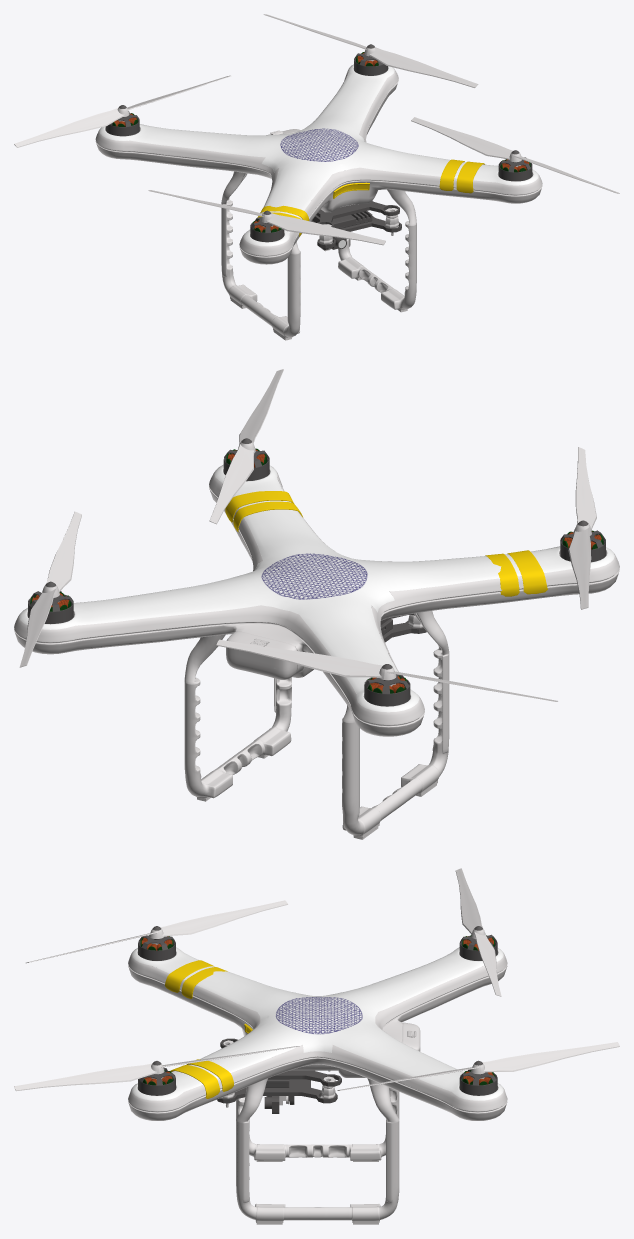
The picture shows the model from 3 angles, top to bottom: view 1: azimuth 30°, elevation 25°; view 2: azimuth 150°, elevation 25°; view 3: azimuth 270°, elevation 25°; orthographic projection. The views are drawn at different scales.
Parts seen in each view (by area): view 1: Dronr_body8, leg_rt_main1, leg_lf_main1, polySurface45, polySurface40, polySurface47, polySurface36, Drone_bands1, camera_plate_top1, camera_plate_btm1, pCube10; view 2: Dronr_body8, leg_rt_main1, leg_lf_main1, Drone_bands1, polySurface36, polySurface45, polySurface47, polySurface40, Drone_battery1; view 3: Dronr_body8, leg_lf_main1, leg_rt_main1, Drone_bands1, polySurface40, polySurface47, polySurface45, polySurface36, camera_plate_btm1, camera_plate_top1.
Boxes of the visible parts, x1,y1,x2,y2 form: Dronr_body8: [95, 64, 542, 264]; leg_rt_main1: [221, 171, 300, 338]; leg_lf_main1: [338, 189, 416, 310]; polySurface45: [148, 190, 385, 245]; polySurface40: [411, 117, 619, 193]; polySurface47: [263, 14, 478, 87]; polySurface36: [14, 75, 231, 147]; Drone_bands1: [257, 159, 484, 236]; camera_plate_top1: [316, 201, 399, 227]; camera_plate_btm1: [311, 216, 401, 248]; pCube10: [312, 211, 372, 228]; Dronr_body8: [14, 464, 619, 736]; leg_rt_main1: [342, 611, 449, 837]; leg_lf_main1: [184, 634, 291, 799]; Drone_bands1: [225, 491, 547, 596]; polySurface36: [216, 639, 557, 701]; polySurface45: [568, 447, 596, 609]; polySurface47: [19, 511, 81, 667]; polySurface40: [209, 369, 283, 524]; Drone_battery1: [226, 631, 297, 679]; Dronr_body8: [128, 947, 507, 1120]; leg_lf_main1: [236, 1078, 399, 1222]; leg_rt_main1: [236, 1087, 399, 1160]; Drone_bands1: [165, 960, 233, 1098]; polySurface40: [14, 1046, 299, 1091]; polySurface47: [337, 1042, 619, 1090]; polySurface45: [26, 900, 287, 963]; polySurface36: [455, 868, 501, 996]; camera_plate_btm1: [217, 1079, 337, 1103]; camera_plate_top1: [220, 1038, 341, 1086].
Size of the model in its own units: 34.73 by 14.41 by 39.99.
Materials: 8 (1 with a texture image).
